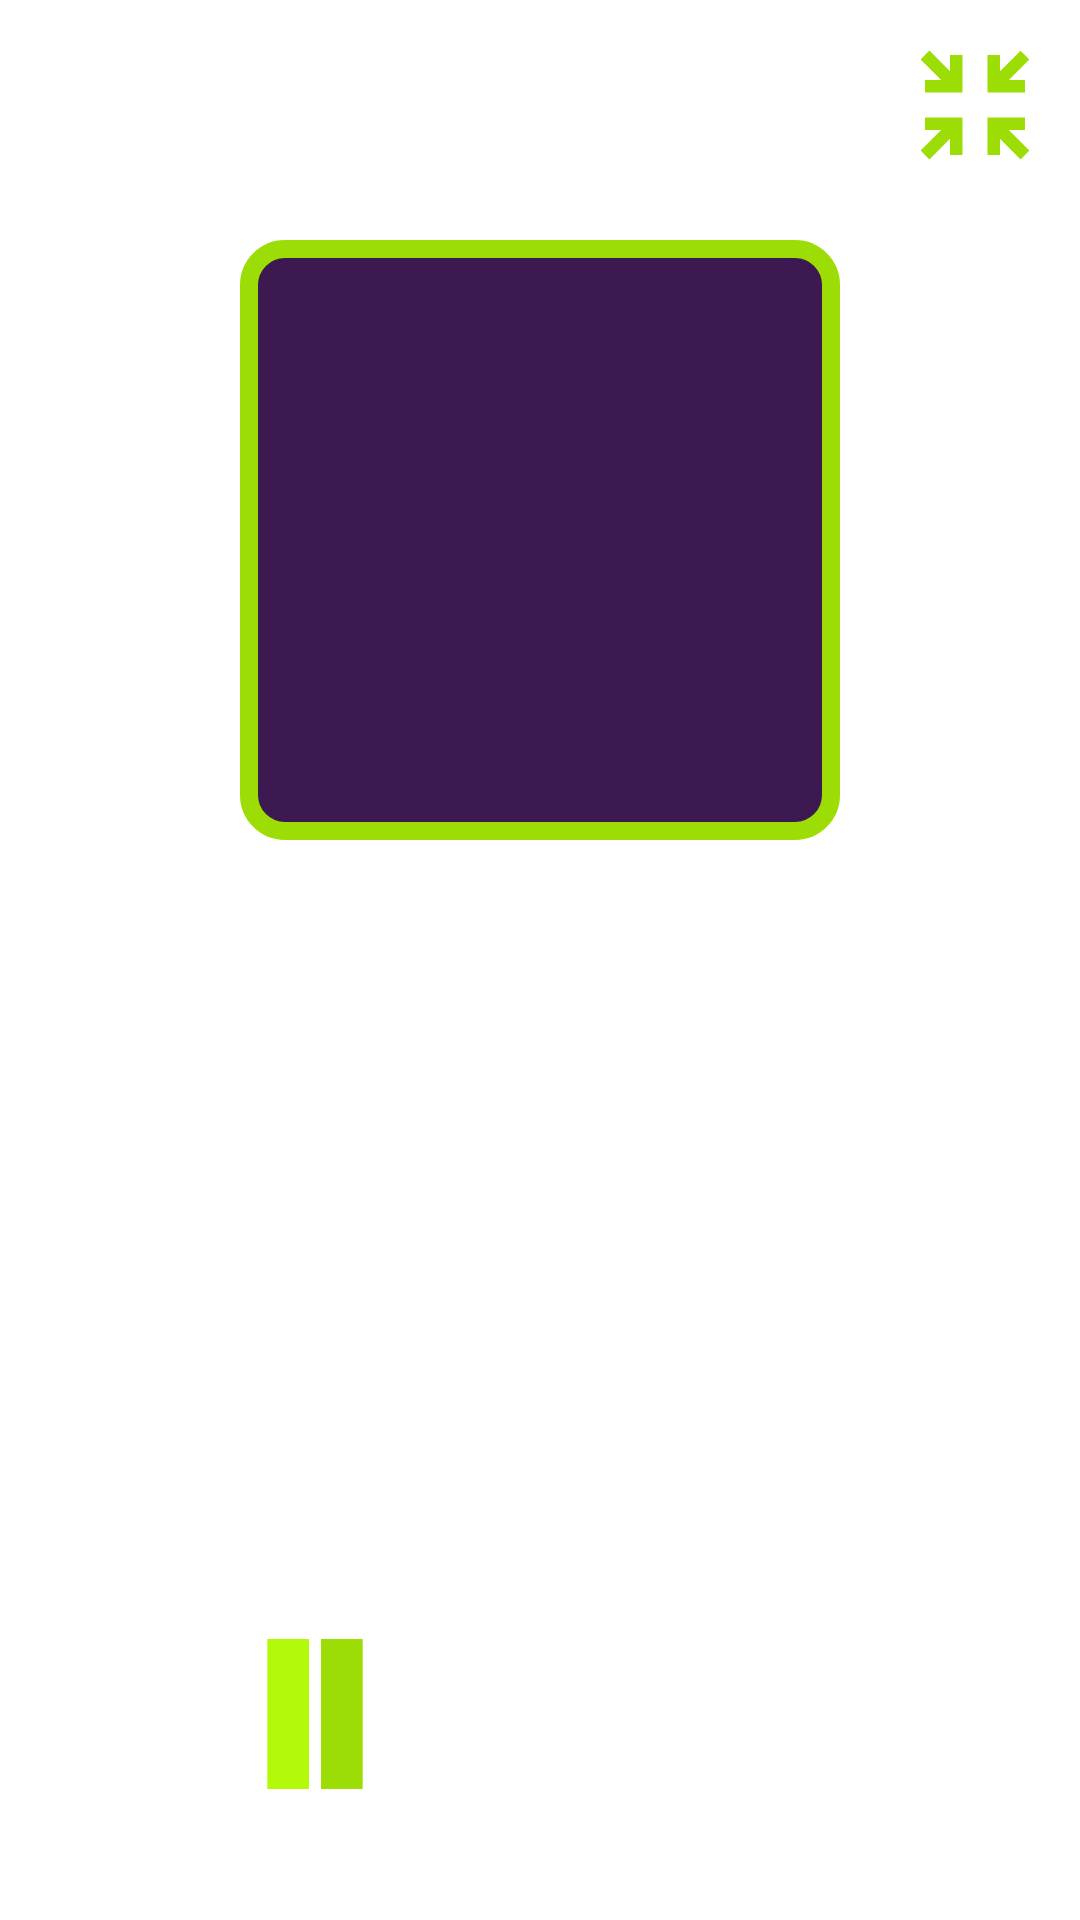

Icon bounding boxes for this 1080px×1920px phone screenshot, format (x1, y1, x2, y2):
fullscreen exit: (920, 50, 1030, 160)
pause detail: (267, 1639, 363, 1789)
